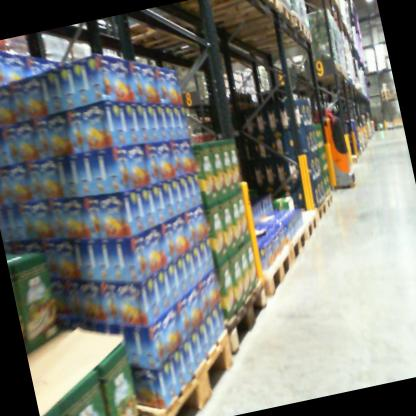pallet: (119, 330, 242, 416), (173, 0, 297, 51), (211, 274, 281, 360), (216, 13, 313, 64), (111, 4, 192, 58), (222, 23, 316, 66), (172, 0, 277, 31), (252, 243, 300, 301), (280, 206, 322, 246), (165, 35, 212, 68), (278, 230, 313, 269), (320, 188, 337, 211), (312, 196, 328, 217)
pallet_truck: (292, 73, 364, 199)
